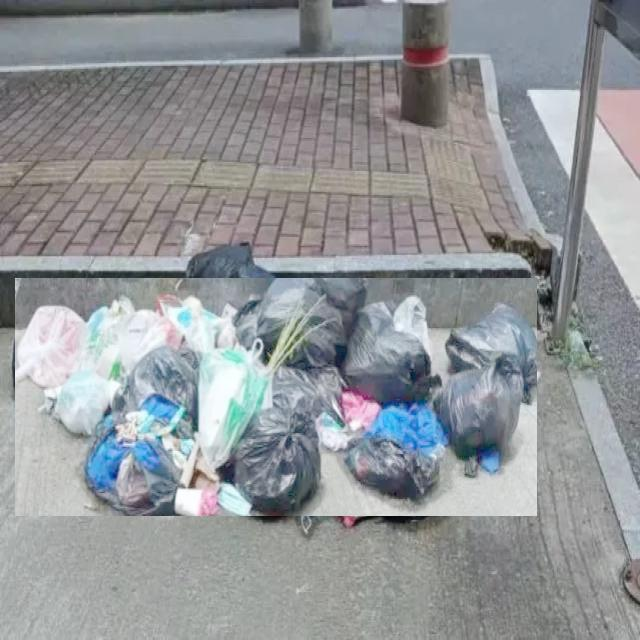dumping: (15, 278, 537, 516)
